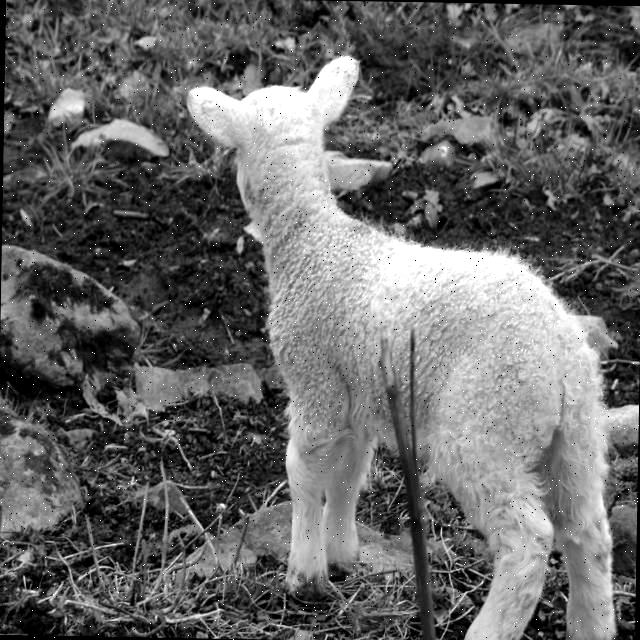sheep: (186, 56, 616, 640)
